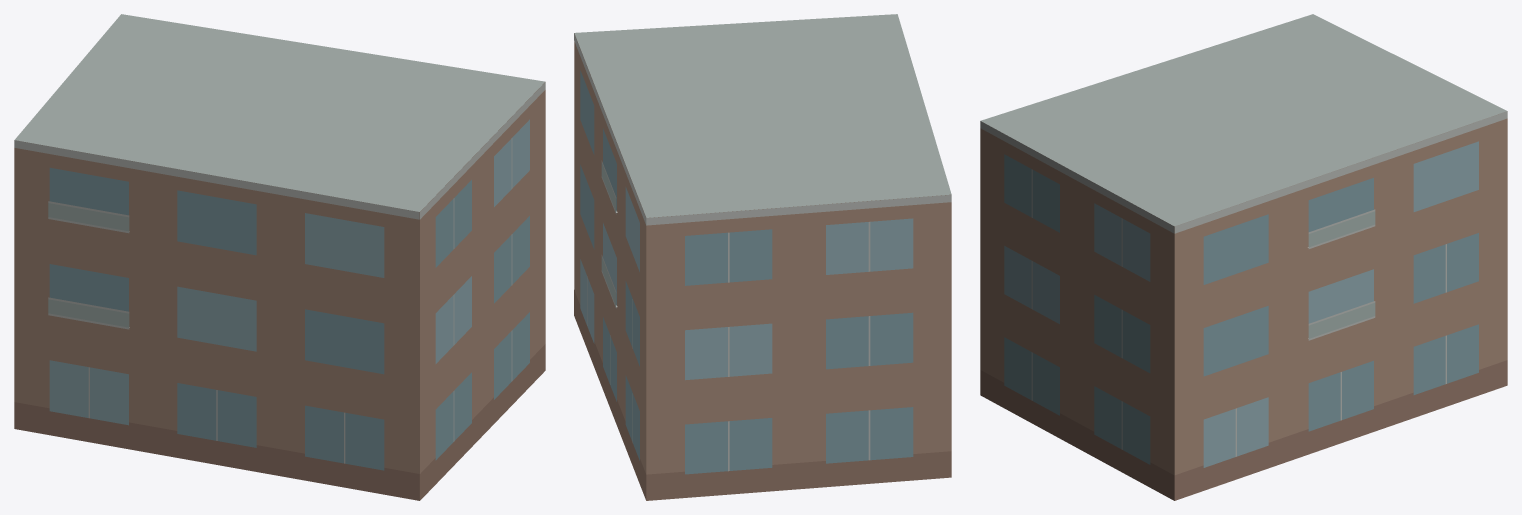
The model's file is survey-upis-32487910.glb.
3 renders of one model, left to right at view 1: azimuth 30°, elevation 25°; view 2: azimuth 150°, elevation 25°; view 3: azimuth 270°, elevation 25°, orthographic. The views are drawn at different scales.
Parts seen in each view (by area): view 1: survey-upis-32487910.tmp; view 2: survey-upis-32487910.tmp; view 3: survey-upis-32487910.tmp.
Part boxes in pixels (<box>): survey-upis-32487910.tmp: <box>14,14,545,500</box>; survey-upis-32487910.tmp: <box>574,14,951,500</box>; survey-upis-32487910.tmp: <box>980,14,1507,500</box>.
Bounding box in the file's own units: 15.2 × 9.15 × 15.95.
